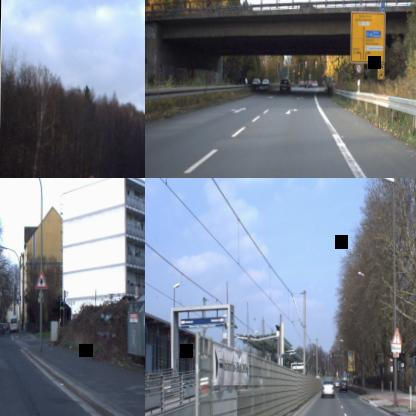DANGER: (390, 328, 402, 344)
priority at next intersection: (34, 268, 48, 289)
speed limit 50: (355, 63, 361, 73)
speed limit 80: (86, 174, 95, 178)
